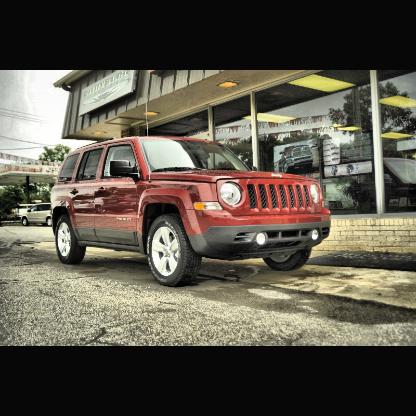Jeep Patriot SUV 2012: (52, 134, 334, 291)
